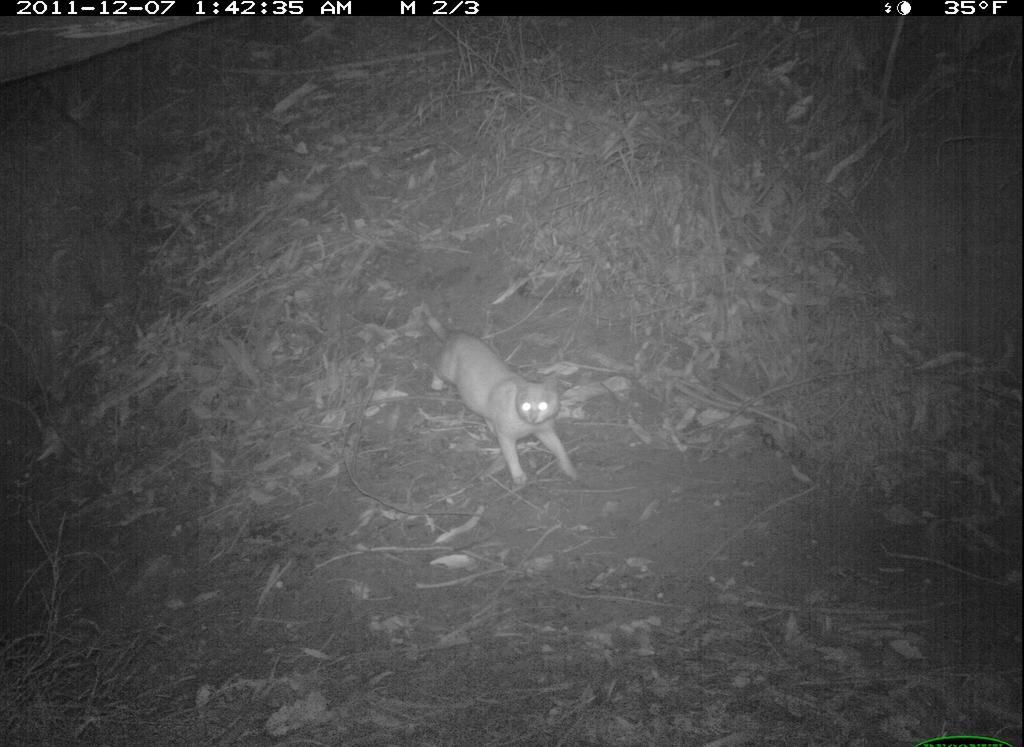cat: (411, 301, 587, 495)
